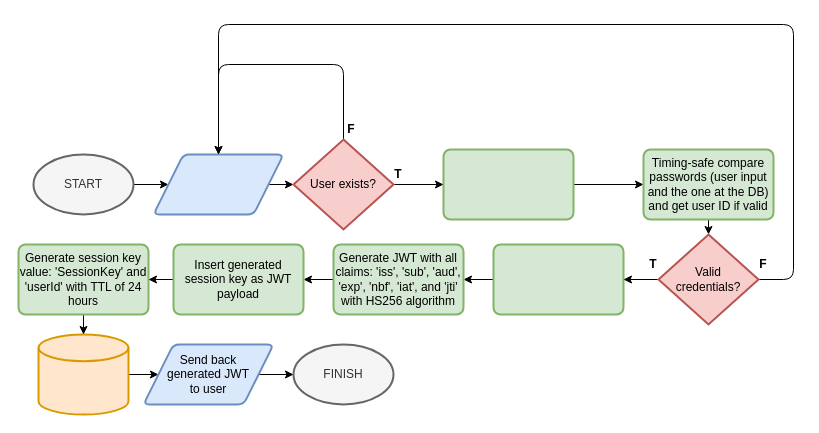
Some shapes in this 819 by 433 pixel diagram are drawn without their labels. The shapes that lost their labels are listed below. From the top down, each one's centre as x and y in pixels, then its label:
At (218,184): "Input credentials".
At (508,184): "Hash password with defined algorithms and applicable secrets (default is Argon2)".
At (558,279): "Generate random session key with NanoID".
At (83,374): "Insert session mapping to Redis DB".
